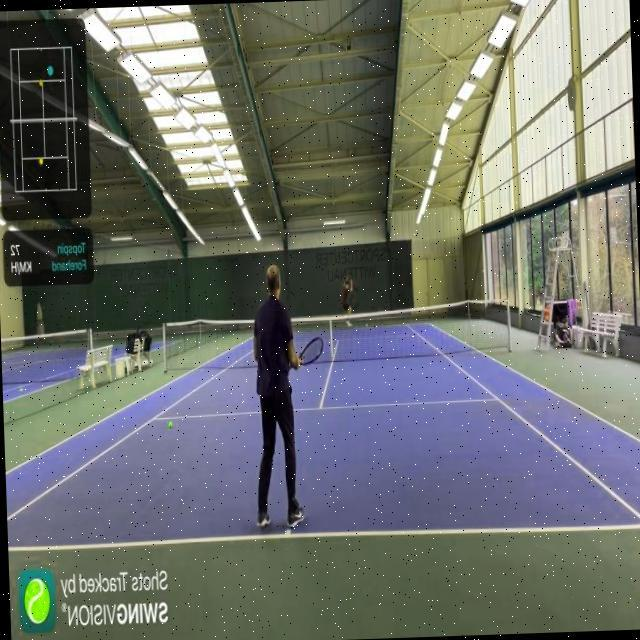court: (0, 314, 640, 552)
net: (160, 297, 513, 366)
player: (247, 262, 329, 528)
